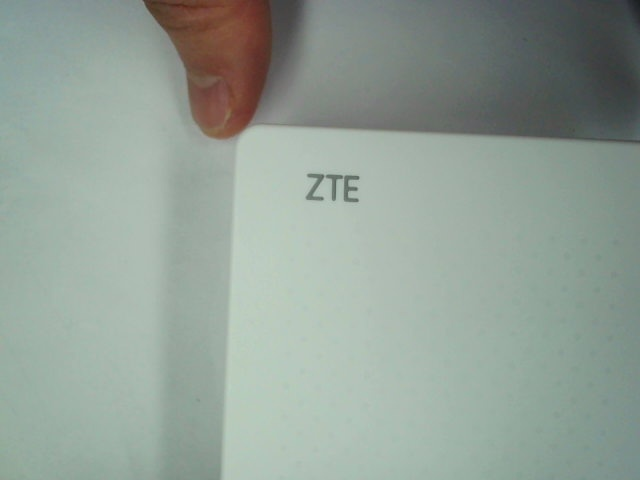AN_ZTE: (296, 166, 363, 205)
